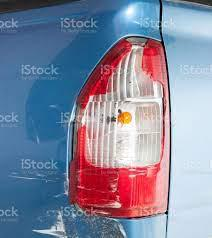Taillight-Damage: (68, 29, 173, 220)
